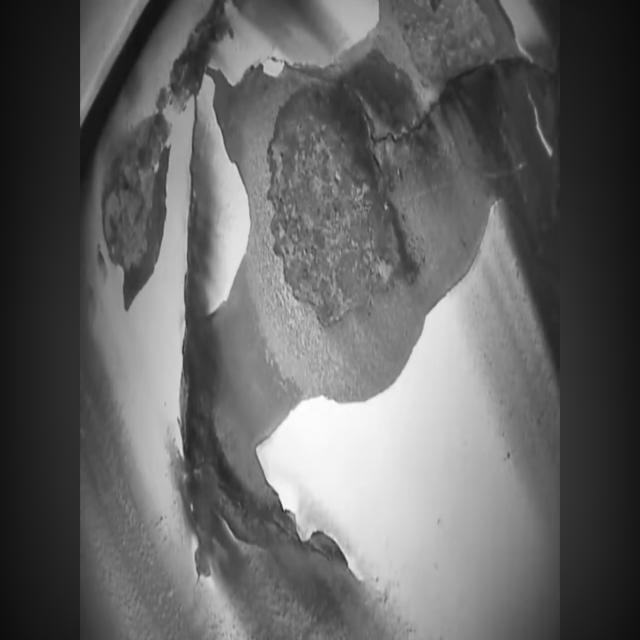burn: (227, 92, 413, 369), (390, 4, 465, 275), (465, 6, 510, 196), (198, 326, 254, 476), (508, 57, 553, 235), (123, 153, 157, 247)
turbine_blade: (80, 0, 567, 633)
